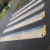zebra: (1, 1, 45, 41)
